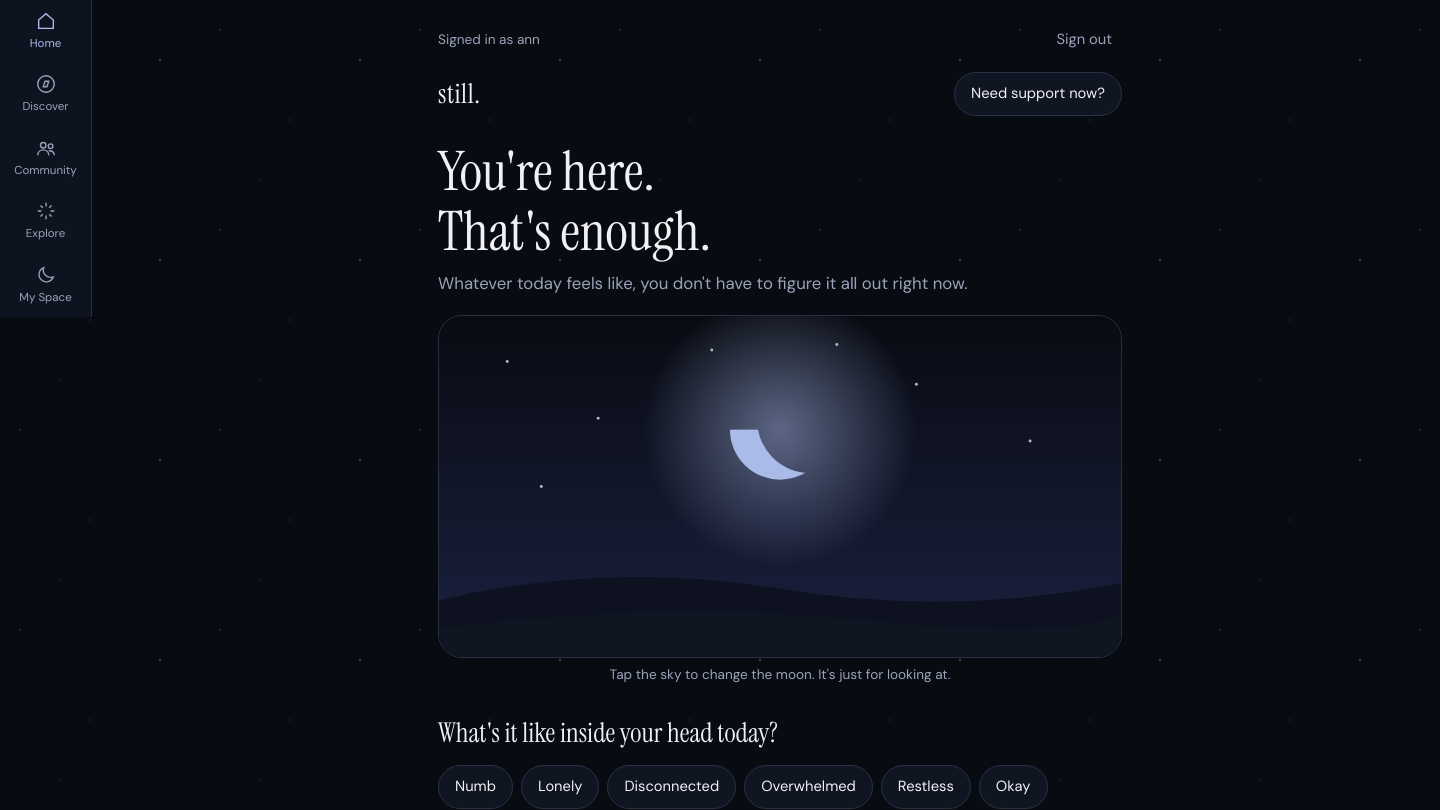
Test: report dialog requires a reason, sends reason and details, and stays open with the error if the request fails
Expected: the text "Signed in as ann" is shown, top-left (438, 29), bottom-right (540, 51)
Click the button "Community" at [46, 158], box top-left (0, 127), bottom-right (91, 190)
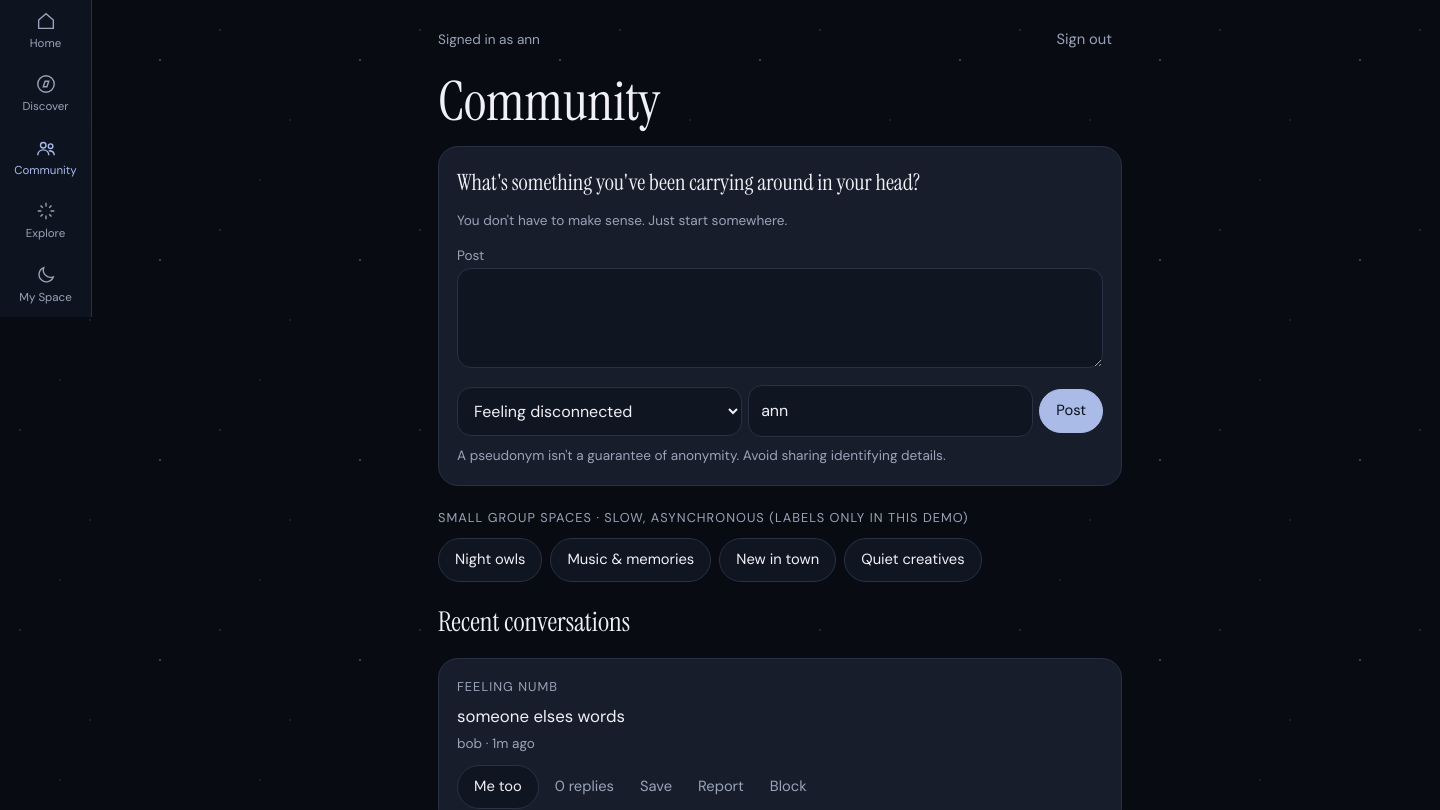
Click the button "Report" at [721, 787], box top-left (688, 765), bottom-right (754, 809)
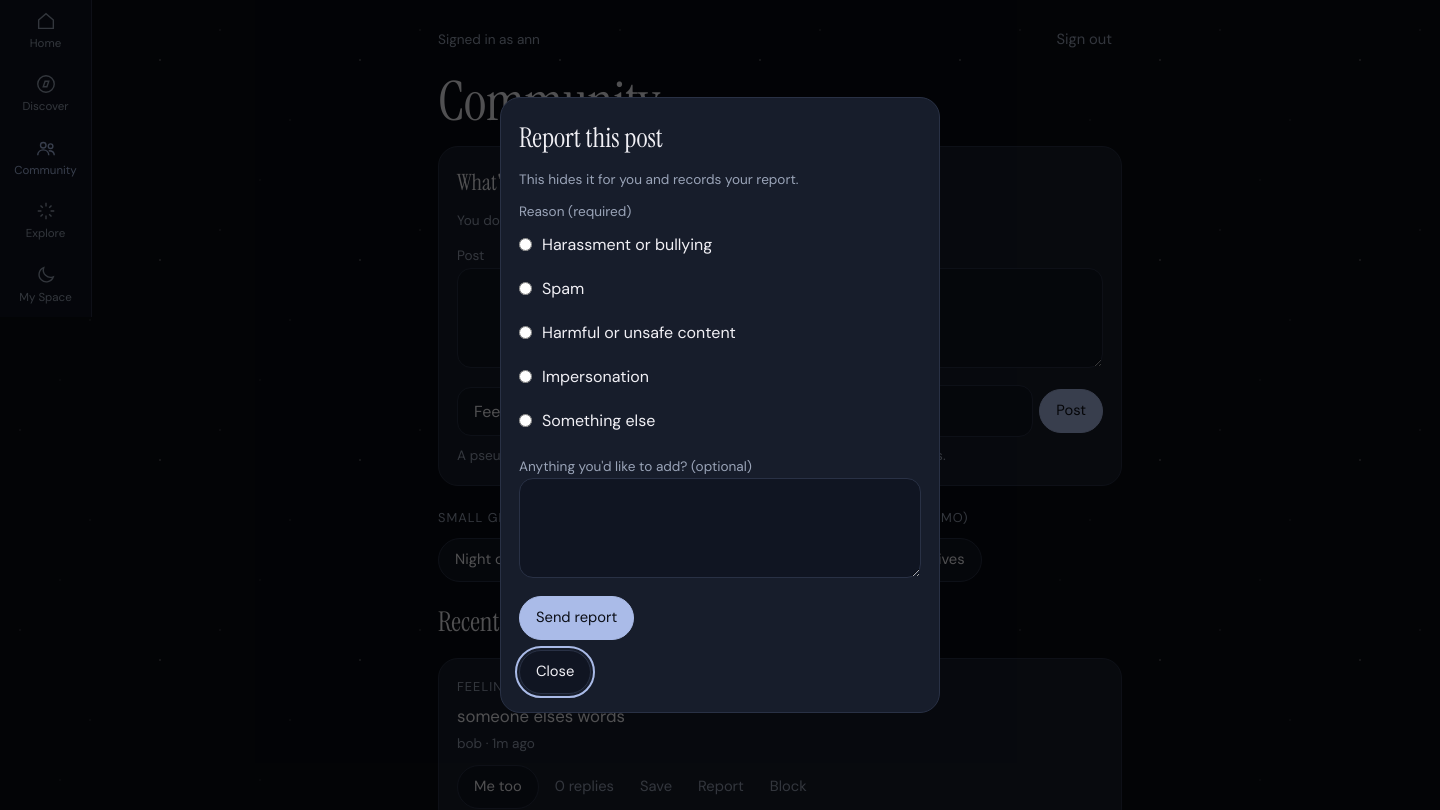
Click the button "Send report" at [577, 618], box top-left (519, 596), bottom-right (634, 640)
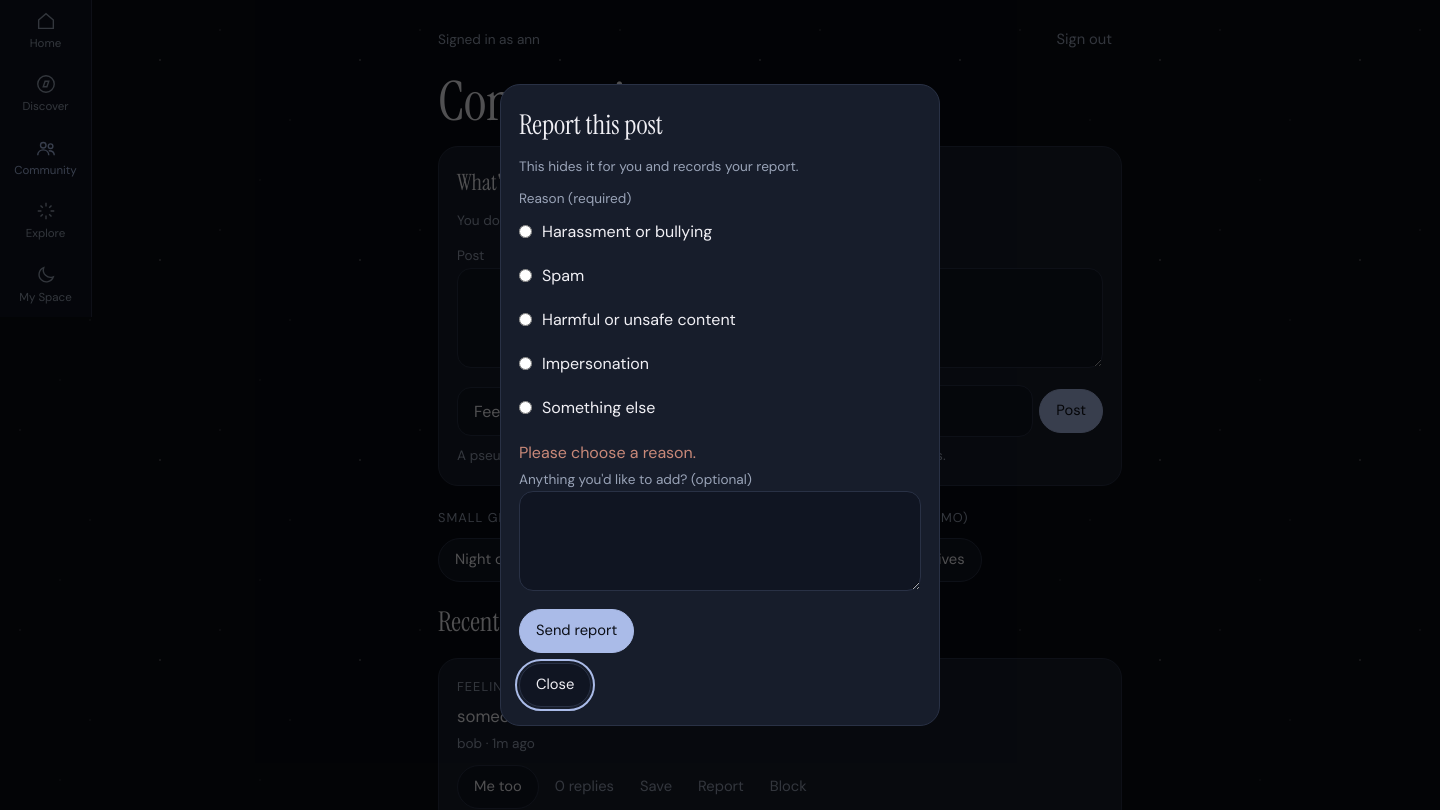
Expected: the message reads "Please choose a reason.", top-left (519, 442), bottom-right (696, 463)
Click the radio button labelled "Harassment or bullying" at [526, 232], box top-left (519, 225), bottom-right (532, 238)
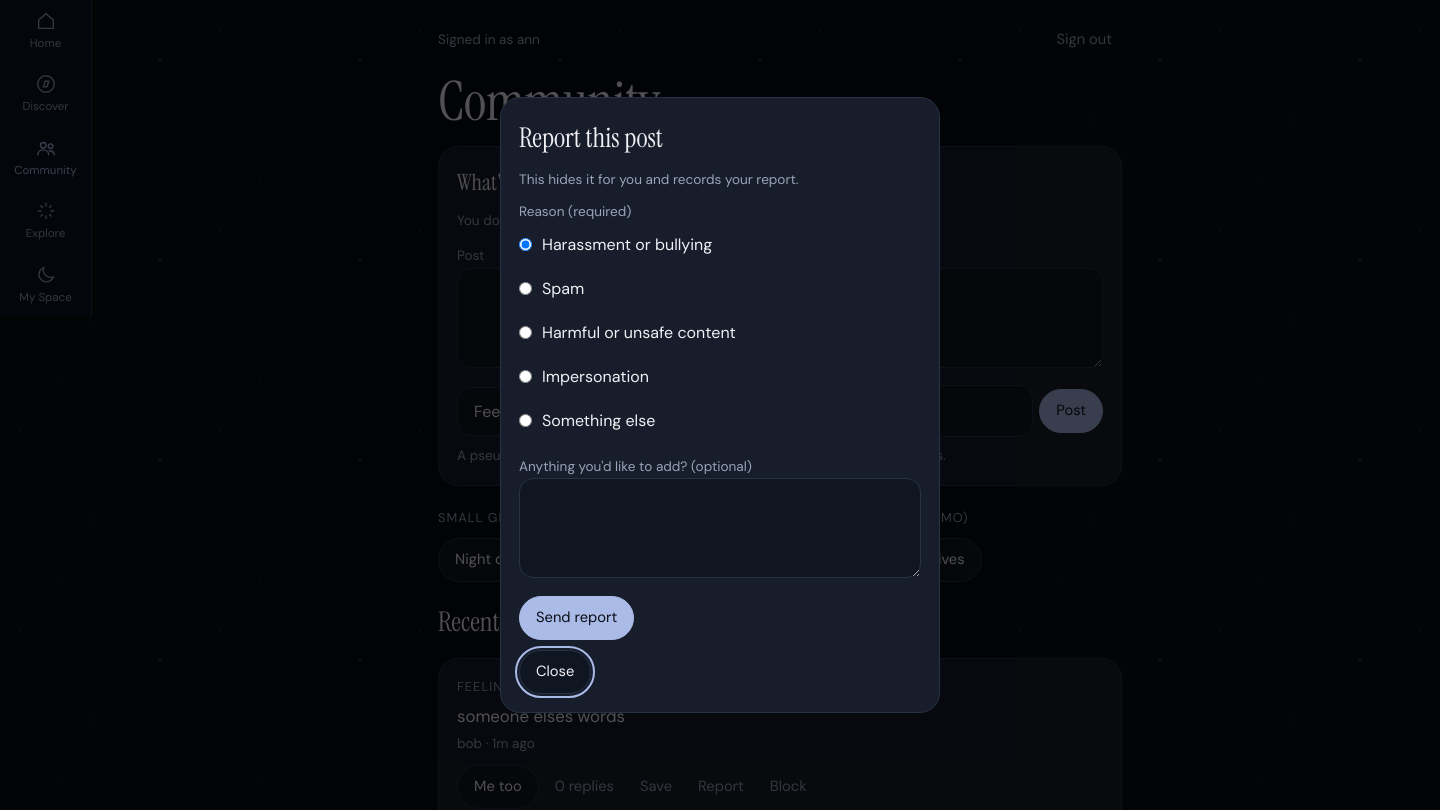
Type "targeted me" into the text box labelled "Anything you'd like to add? (optional)" at [720, 528], box top-left (519, 478), bottom-right (921, 578)
Click the button "Send report" at [577, 618], box top-left (519, 596), bottom-right (634, 640)
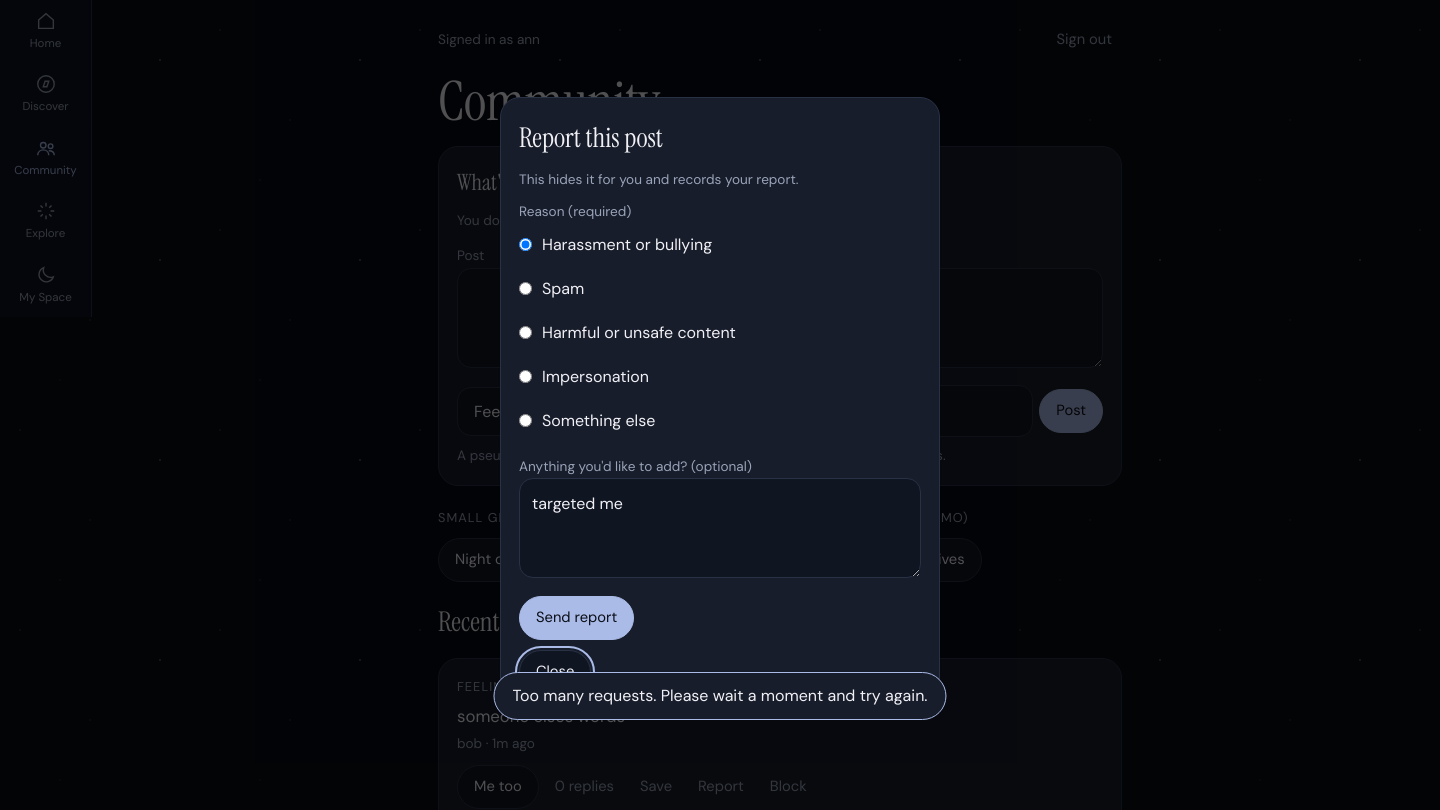
Expected: the dialog is shown, top-left (500, 97), bottom-right (940, 713)
Expected: the button "Send report" is enabled
Expected: the text "Too many requests. Please wait a moment and try again." is shown, top-left (494, 672), bottom-right (946, 720)
Click the button "Send report" at [577, 618], box top-left (519, 596), bottom-right (634, 640)
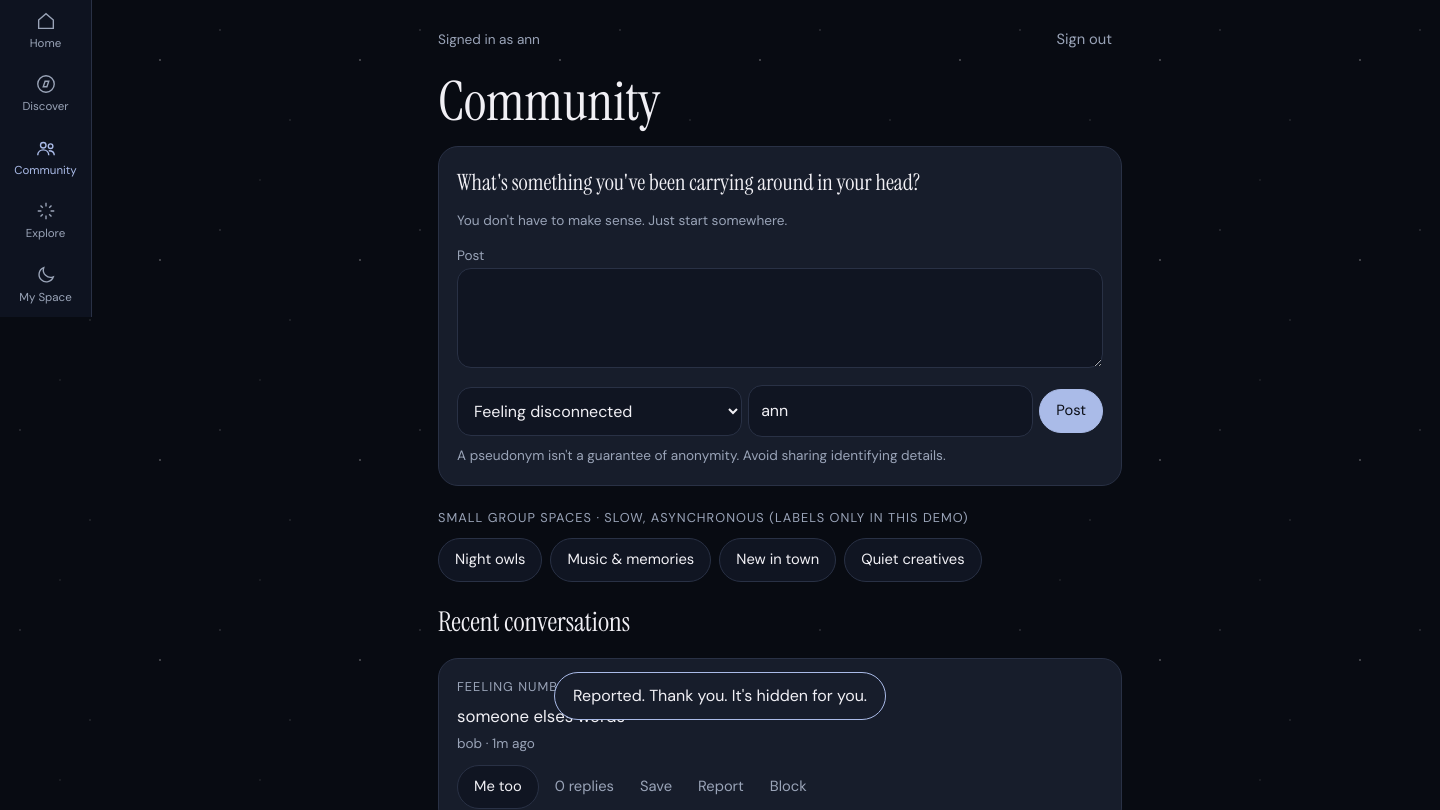
Expected: the dialog is gone
